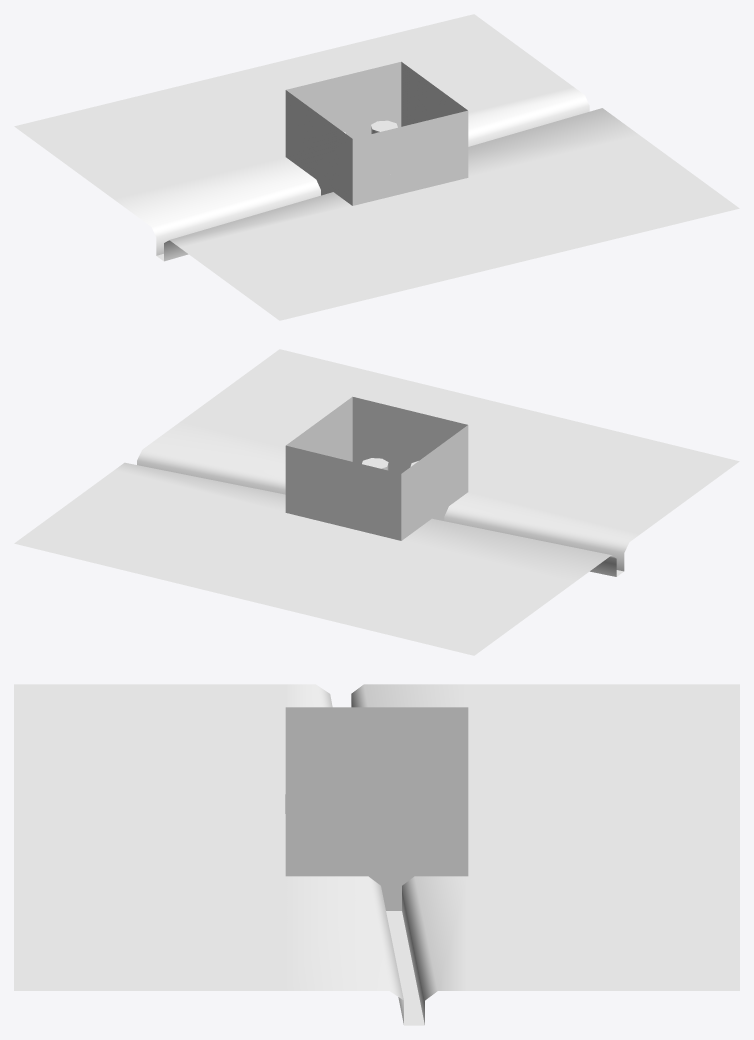
File: map1.fbx
3 views of the same model, one above another, from view 1: azimuth 30°, elevation 25°; view 2: azimuth 150°, elevation 25°; view 3: azimuth 270°, elevation 25° (orthographic). The views are drawn at different scales.
Visible parts, largest first — view 1: polymsh, cube; view 2: polymsh, cube; view 3: polymsh, cube.
Part boxes in pixels (x1,y1,x2,y2): polymsh: (14, 14, 739, 320); cube: (285, 61, 468, 205); polymsh: (14, 349, 739, 655); cube: (285, 396, 468, 540); polymsh: (14, 684, 739, 1025); cube: (285, 707, 468, 910).
Bounding box in the file's own units: 40.86 × 8 × 40.86.
